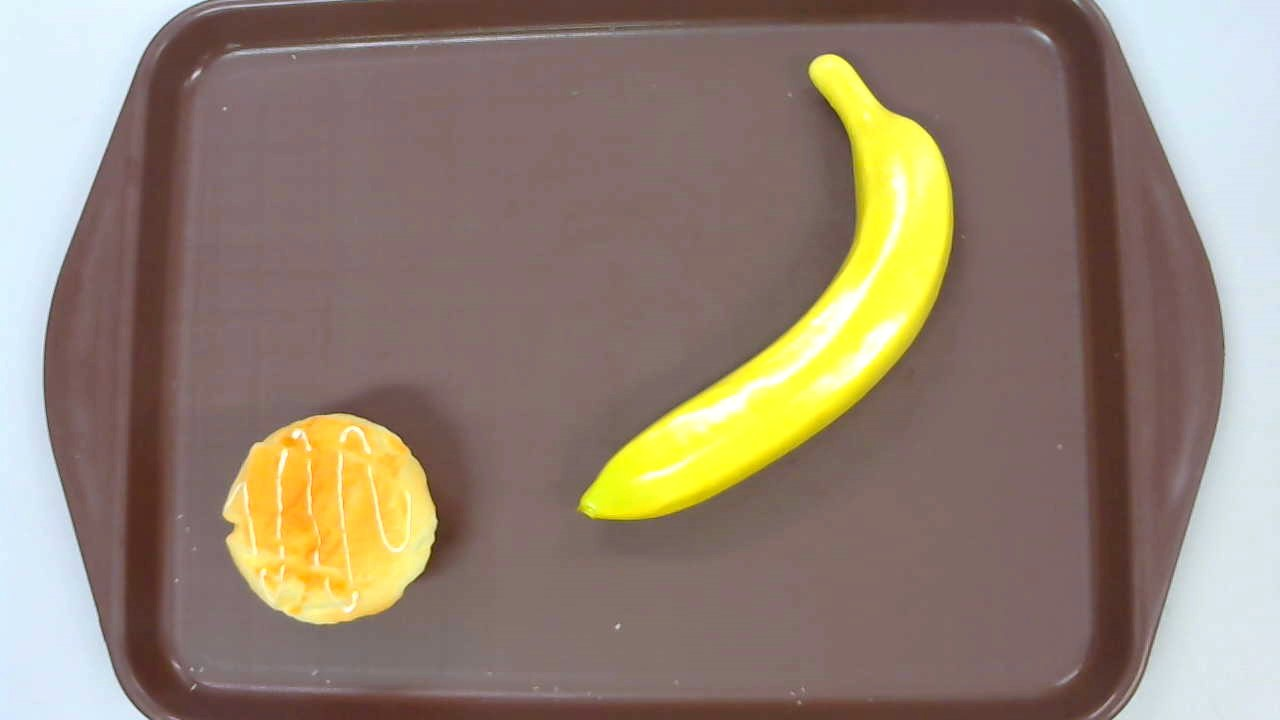banana: (577, 54, 954, 519)
cupcake: (221, 411, 437, 625)
